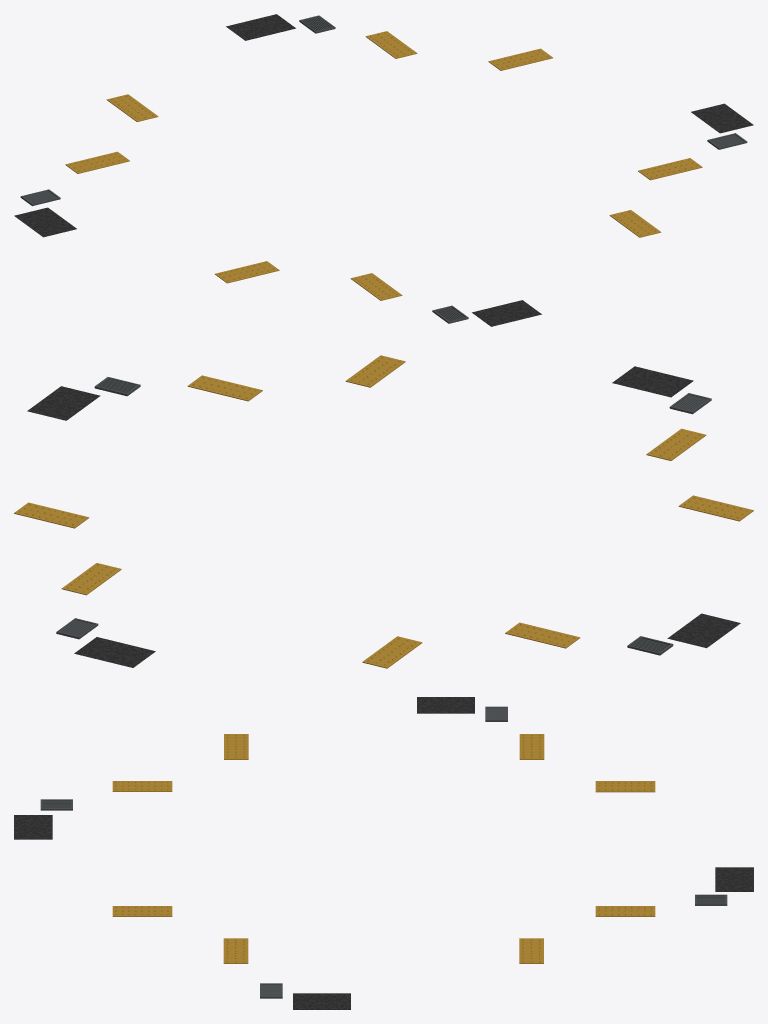
The model's file is PZ_FourWay_Surface_Details.glb.
The picture shows the model from 3 angles, top to bottom: view 1: azimuth 30°, elevation 25°; view 2: azimuth 150°, elevation 25°; view 3: azimuth 270°, elevation 25°; orthographic projection. The views are drawn at different scales.
Visible parts, largest first — view 1: PZ_ROAD_ResurfacePatch_North, PZ_ROAD_ResurfacePatch_South, PZ_ROAD_ResurfacePatch_West, PZ_ROAD_ResurfacePatch_East, PZ_TACTILE_NE_HorizontalApproach, PZ_TACTILE_SE_VerticalApproach, PZ_TACTILE_NW_VerticalApproach, PZ_TACTILE_SW_HorizontalApproach, PZ_TACTILE_SE_HorizontalApproach, PZ_TACTILE_NE_VerticalApproach, PZ_TACTILE_SW_VerticalApproach, PZ_TACTILE_NW_HorizontalApproach; view 2: PZ_ROAD_ResurfacePatch_North, PZ_ROAD_ResurfacePatch_South, PZ_ROAD_ResurfacePatch_East, PZ_ROAD_ResurfacePatch_West, PZ_TACTILE_NE_HorizontalApproach, PZ_TACTILE_NW_VerticalApproach, PZ_TACTILE_SW_HorizontalApproach, PZ_TACTILE_SE_VerticalApproach, PZ_TACTILE_NE_VerticalApproach, PZ_TACTILE_SW_VerticalApproach, PZ_TACTILE_NW_HorizontalApproach, PZ_TACTILE_SE_HorizontalApproach (+4 smaller); view 3: PZ_ROAD_ResurfacePatch_West, PZ_ROAD_ResurfacePatch_East, PZ_ROAD_ResurfacePatch_North, PZ_ROAD_ResurfacePatch_South, PZ_TACTILE_NW_HorizontalApproach, PZ_TACTILE_NW_VerticalApproach, PZ_TACTILE_SE_VerticalApproach, PZ_TACTILE_NE_VerticalApproach, PZ_TACTILE_SW_VerticalApproach, PZ_TACTILE_SE_HorizontalApproach, PZ_TACTILE_NE_HorizontalApproach, PZ_TACTILE_SW_HorizontalApproach.
Part boxes in pixels (left/top/right/bottom): PZ_ROAD_ResurfacePatch_North: left=226, top=14, right=295, bottom=40; PZ_ROAD_ResurfacePatch_South: left=472, top=300, right=541, bottom=326; PZ_ROAD_ResurfacePatch_West: left=14, top=207, right=76, bottom=237; PZ_ROAD_ResurfacePatch_East: left=691, top=103, right=753, bottom=133; PZ_TACTILE_NE_HorizontalApproach: left=488, top=48, right=552, bottom=70; PZ_TACTILE_SE_VerticalApproach: left=638, top=158, right=702, bottom=180; PZ_TACTILE_NW_VerticalApproach: left=65, top=151, right=129, bottom=173; PZ_TACTILE_SW_HorizontalApproach: left=215, top=261, right=279, bottom=283; PZ_TACTILE_SE_HorizontalApproach: left=609, top=210, right=661, bottom=237; PZ_TACTILE_NE_VerticalApproach: left=365, top=31, right=417, bottom=58; PZ_TACTILE_SW_VerticalApproach: left=350, top=273, right=402, bottom=300; PZ_TACTILE_NW_HorizontalApproach: left=106, top=94, right=158, bottom=121; PZ_ROAD_ResurfacePatch_North: left=74, top=637, right=155, bottom=667; PZ_ROAD_ResurfacePatch_South: left=612, top=366, right=693, bottom=397; PZ_ROAD_ResurfacePatch_East: left=27, top=386, right=100, bottom=420; PZ_ROAD_ResurfacePatch_West: left=667, top=613, right=740, bottom=648; PZ_TACTILE_NE_HorizontalApproach: left=14, top=502, right=89, bottom=528; PZ_TACTILE_NW_VerticalApproach: left=505, top=622, right=580, bottom=648; PZ_TACTILE_SW_HorizontalApproach: left=678, top=495, right=753, bottom=521; PZ_TACTILE_SE_VerticalApproach: left=187, top=375, right=262, bottom=401; PZ_TACTILE_NE_VerticalApproach: left=61, top=563, right=121, bottom=595; PZ_TACTILE_SW_VerticalApproach: left=646, top=428, right=706, bottom=460; PZ_TACTILE_NW_HorizontalApproach: left=362, top=636, right=422, bottom=668; PZ_TACTILE_SE_HorizontalApproach: left=345, top=355, right=405, bottom=387; PZ_ROAD_ResurfacePatch_West: left=417, top=697, right=474, bottom=713; PZ_ROAD_ResurfacePatch_East: left=293, top=993, right=350, bottom=1009; PZ_ROAD_ResurfacePatch_North: left=715, top=867, right=753, bottom=891; PZ_ROAD_ResurfacePatch_South: left=14, top=815, right=52, bottom=839; PZ_TACTILE_NW_HorizontalApproach: left=595, top=781, right=655, bottom=792; PZ_TACTILE_NW_VerticalApproach: left=519, top=734, right=544, bottom=759; PZ_TACTILE_SE_VerticalApproach: left=223, top=938, right=248, bottom=963; PZ_TACTILE_NE_VerticalApproach: left=595, top=906, right=655, bottom=916; PZ_TACTILE_SW_VerticalApproach: left=112, top=781, right=172, bottom=791; PZ_TACTILE_SE_HorizontalApproach: left=112, top=906, right=172, bottom=916; PZ_TACTILE_NE_HorizontalApproach: left=519, top=938, right=543, bottom=963; PZ_TACTILE_SW_HorizontalApproach: left=224, top=734, right=248, bottom=759.
Bounding box in the file's own units: 22.9 × 0.172 × 22.9.
3 materials, 3 textured.
